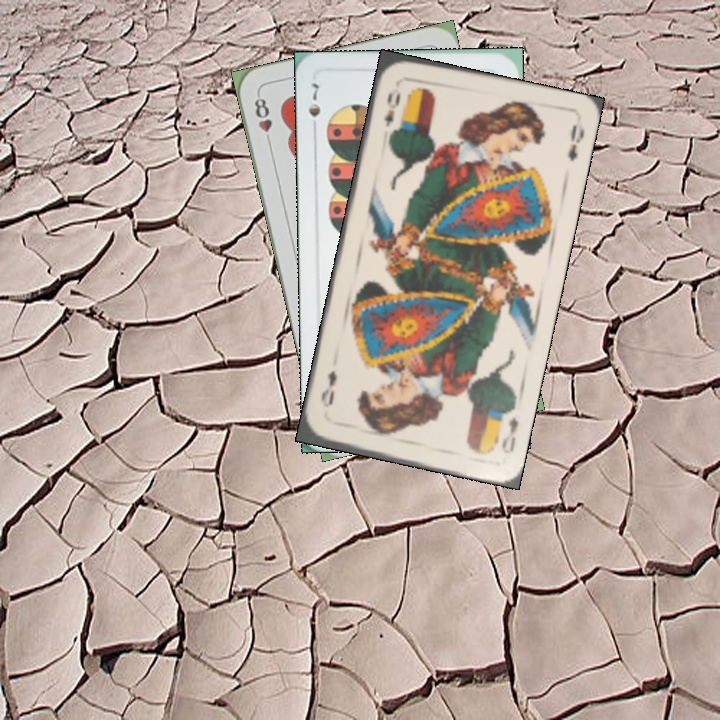EO: (497, 413, 521, 456), (380, 88, 403, 130)
H8: (250, 91, 275, 149)
S7: (304, 79, 323, 136)
